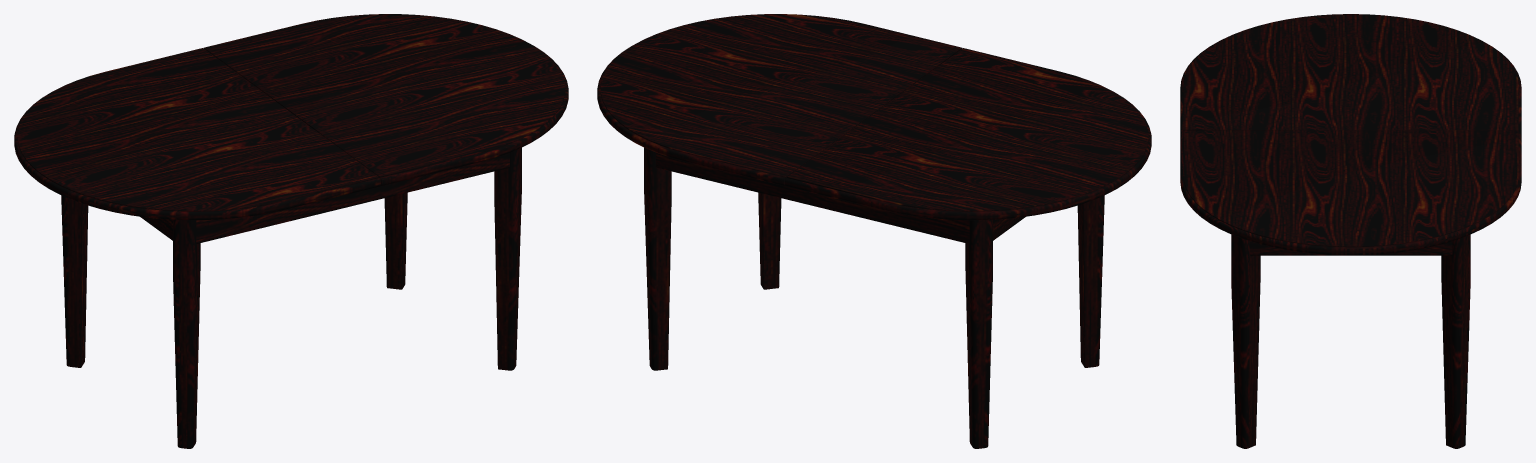
File: masa_1.glb
3 views of the same model, side by side, from view 1: azimuth 30°, elevation 25°; view 2: azimuth 150°, elevation 25°; view 3: azimuth 270°, elevation 25° (orthographic). The views are drawn at different scales.
Parts seen in each view (by area): view 1: table; view 2: table; view 3: table.
Part boxes in pixels (<box>): table: <box>14,14,568,448</box>; table: <box>597,14,1151,448</box>; table: <box>1180,14,1521,448</box>.
Bounding box in the file's own units: 1.95 × 0.934 × 1.2.
1 material, 1 textured.
